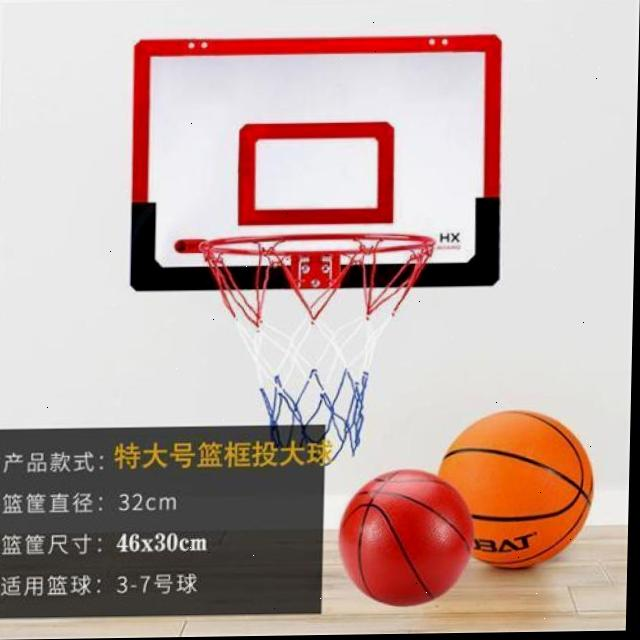Basketball: (442, 406, 600, 571), (338, 468, 477, 610)
